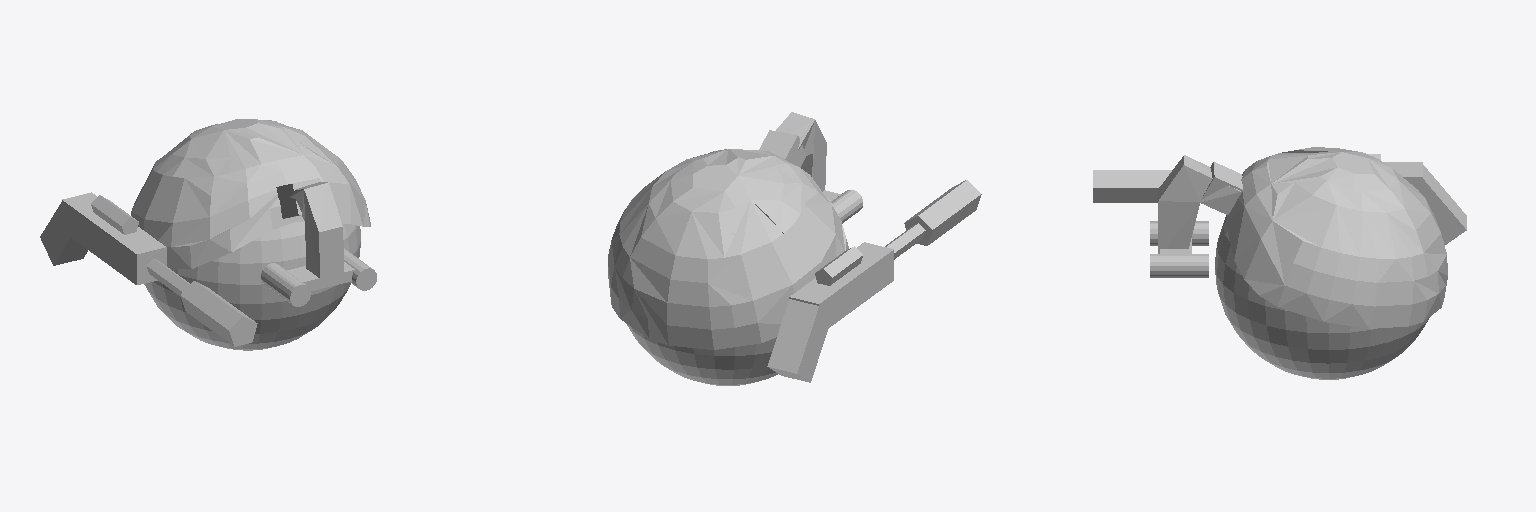
The model's file is sniperTower.obj.
The picture shows the model from 3 angles: view 1: azimuth 30°, elevation 25°; view 2: azimuth 150°, elevation 25°; view 3: azimuth 270°, elevation 25°; orthographic projection.
Visible parts, largest first — view 1: Sphere.001, Sphere, Cube.001, Cylinder, Cube; view 2: Sphere.001, Sphere, Cylinder, Cube.001, Cube; view 3: Sphere.001, Sphere, Cylinder, Cube, Cube.001.
Part boxes in pixels (x1,y1,x2,y2): Sphere.001: (131, 119, 376, 306); Sphere: (144, 148, 360, 350); Cube.001: (62, 192, 166, 284); Cylinder: (91, 195, 257, 346); Cube: (40, 201, 87, 265); Sphere.001: (608, 112, 862, 349); Sphere: (626, 230, 777, 385); Cylinder: (815, 180, 981, 285); Cube.001: (789, 242, 893, 334); Cube: (767, 299, 832, 382); Sphere.001: (1150, 147, 1447, 328); Sphere: (1215, 217, 1429, 379); Cylinder: (1093, 154, 1380, 202); Cube: (1412, 165, 1466, 244); Cube.001: (1384, 162, 1422, 194).
Size of the model in its own units: 2.48 by 2.04 by 3.28.